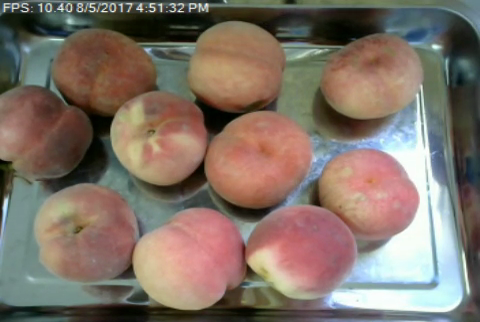Peach: (135, 207, 245, 310), (245, 203, 357, 300), (33, 183, 138, 283), (204, 110, 310, 208), (315, 31, 422, 122), (108, 89, 208, 185), (316, 149, 420, 240), (50, 27, 157, 115), (187, 21, 285, 111)
